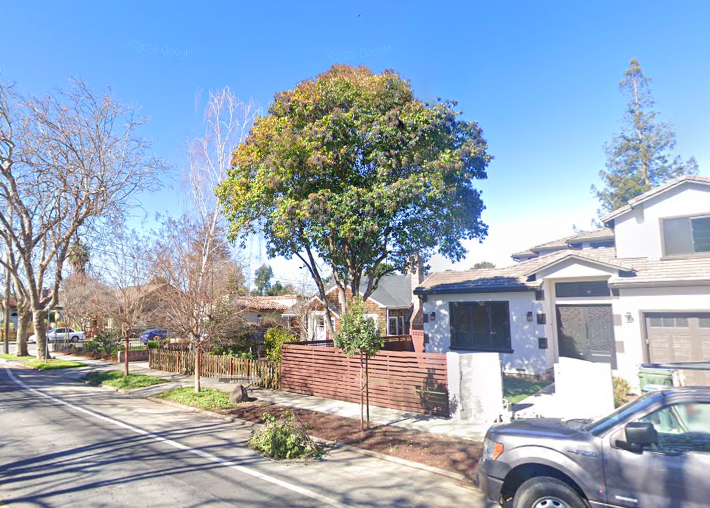tree: (212, 61, 495, 348)
